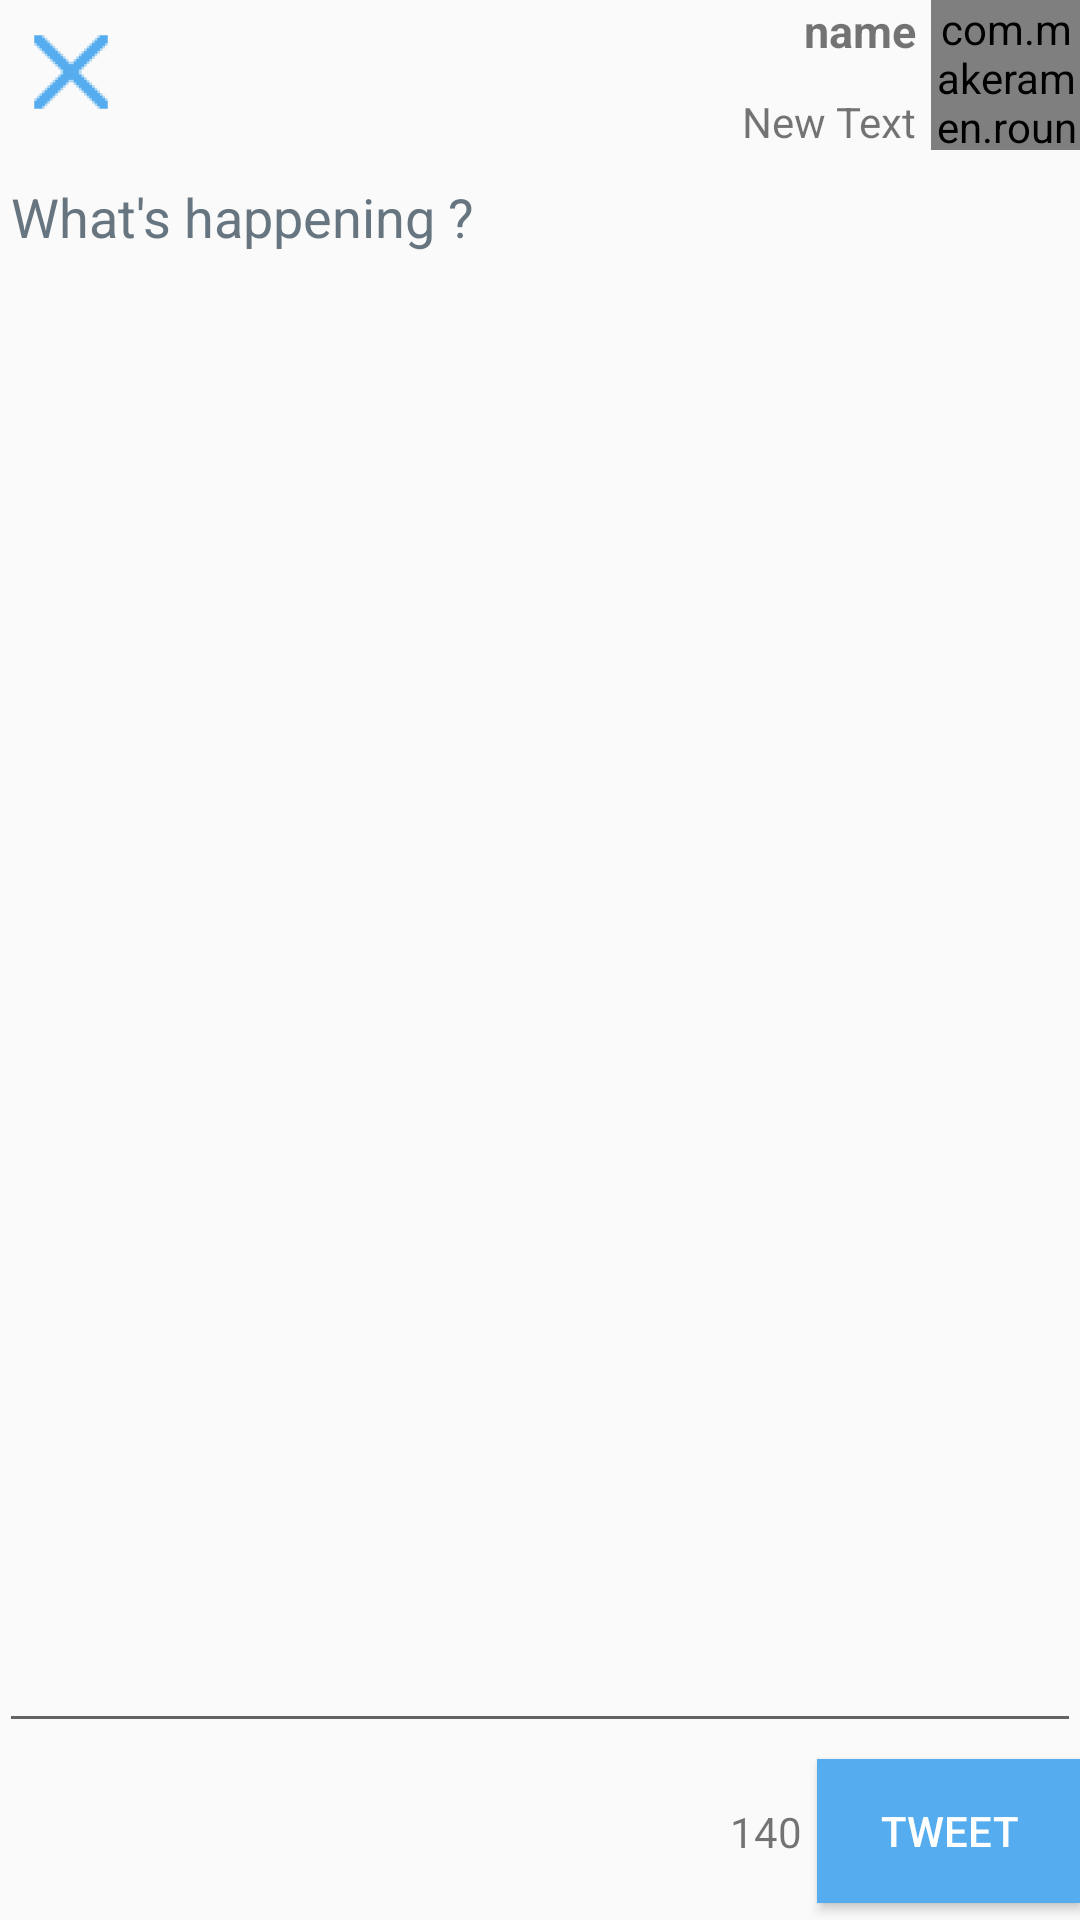

Where icons sit on this 1080px x 1920px app screen, as (x1, y1, x2, y2):
close: (34, 35, 108, 109)
